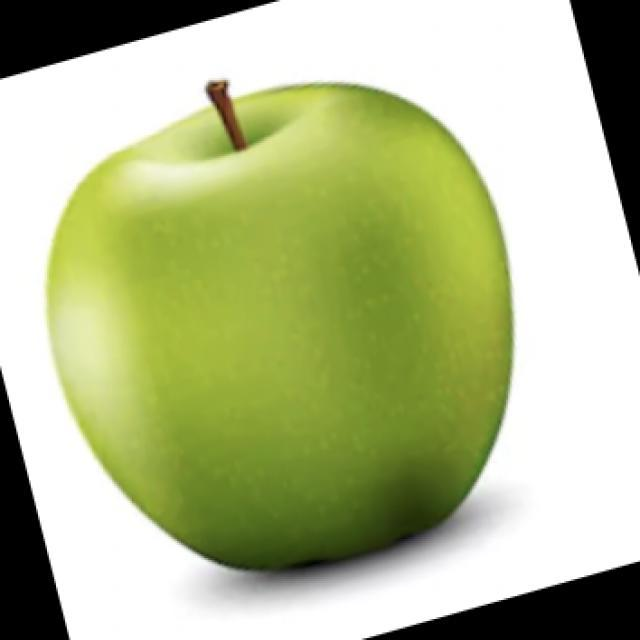Fresh Apple: (45, 74, 533, 574)
